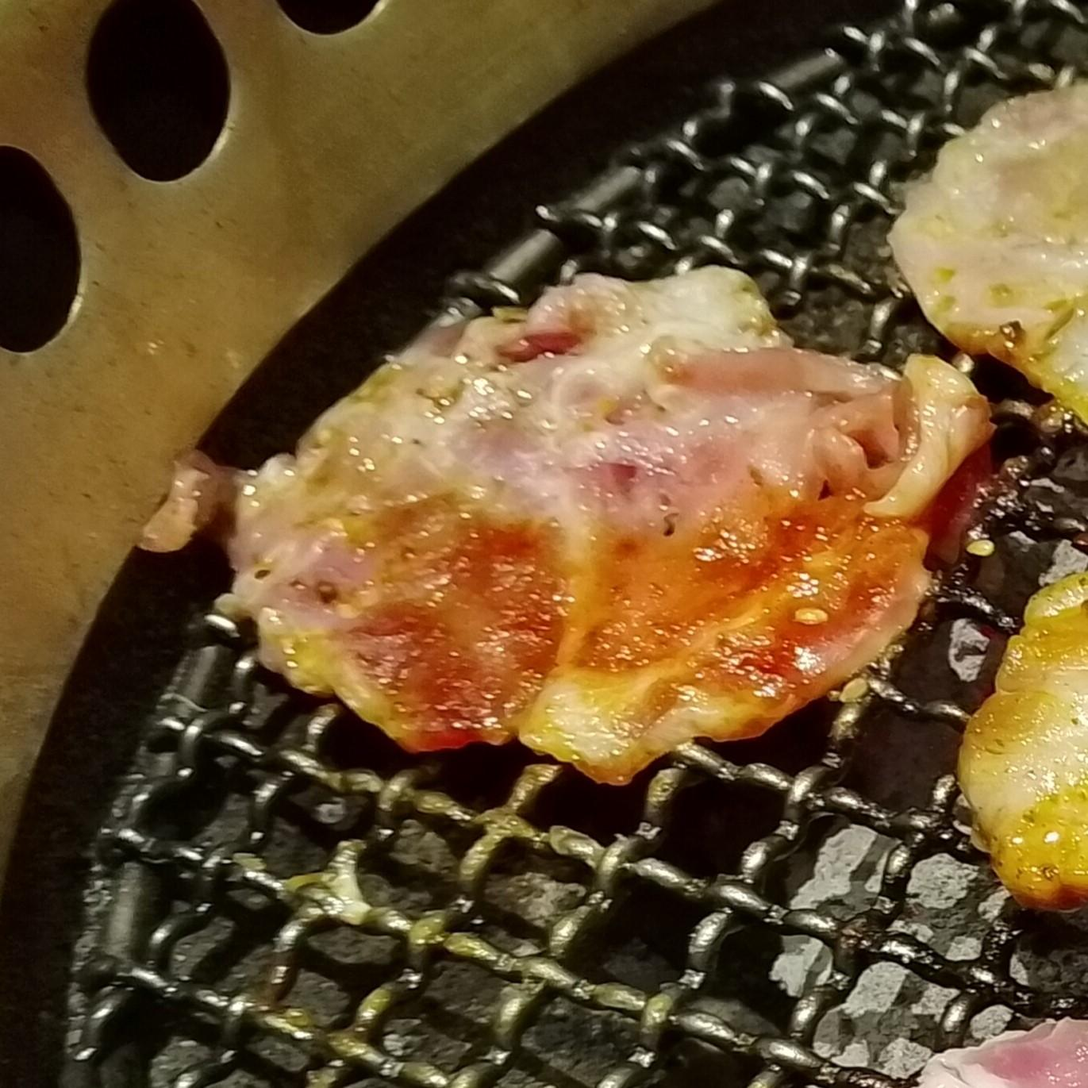Undercooked: (140, 267, 993, 785)
